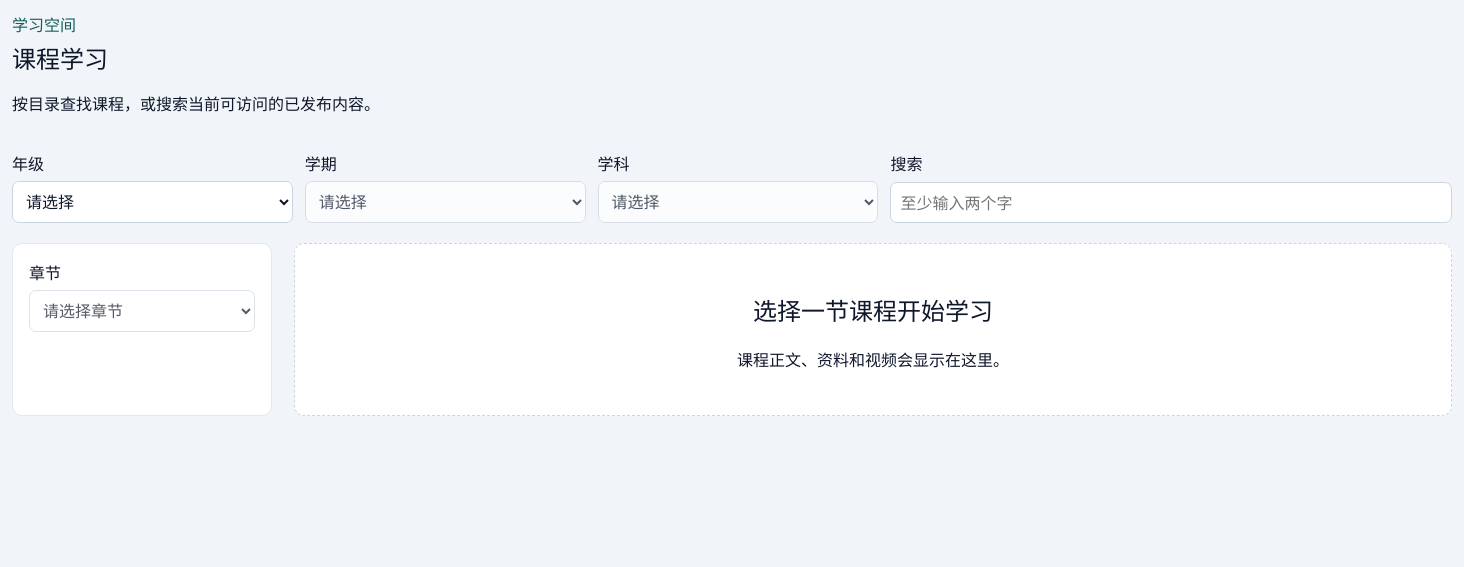
LearningView › loads accessible top filters and shows an authorized empty path
This screenshot has width=1464, height=567.
Step 1. Select "高一" in the dropdown named "年级筛选" → coordinates (152, 202), box [12,181,293,223]
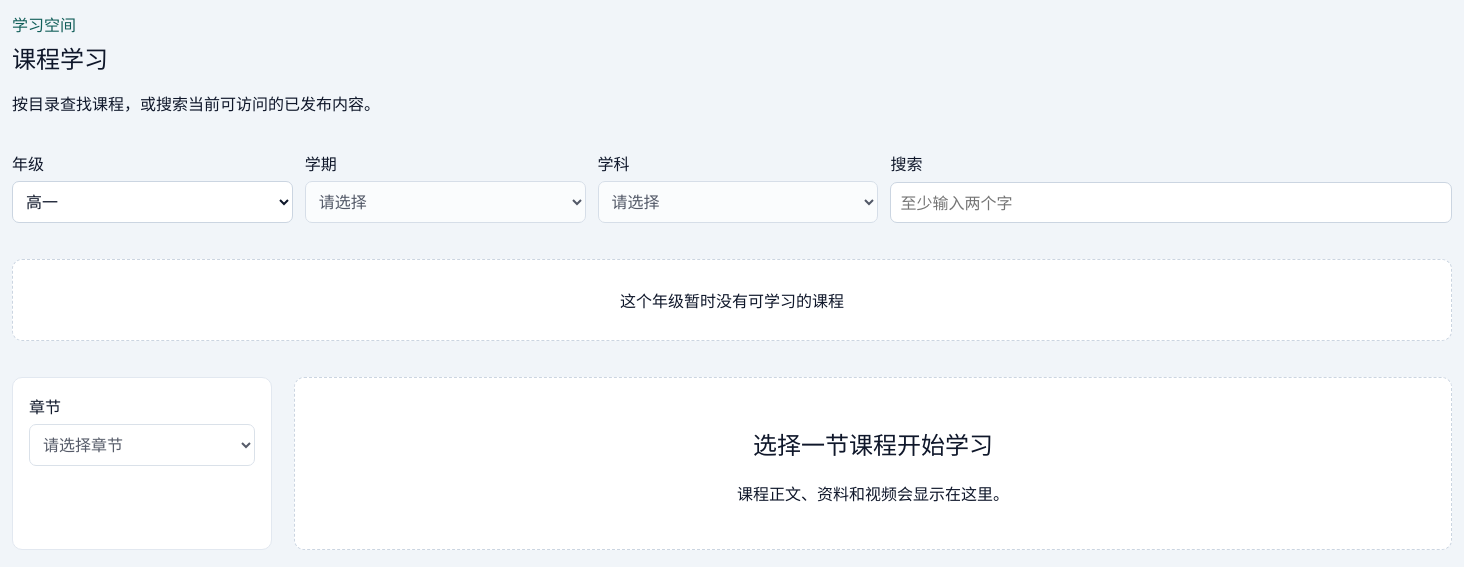
Expected: the text "这个年级暂时没有可学习的课程" is shown, [12,259,1452,341]
